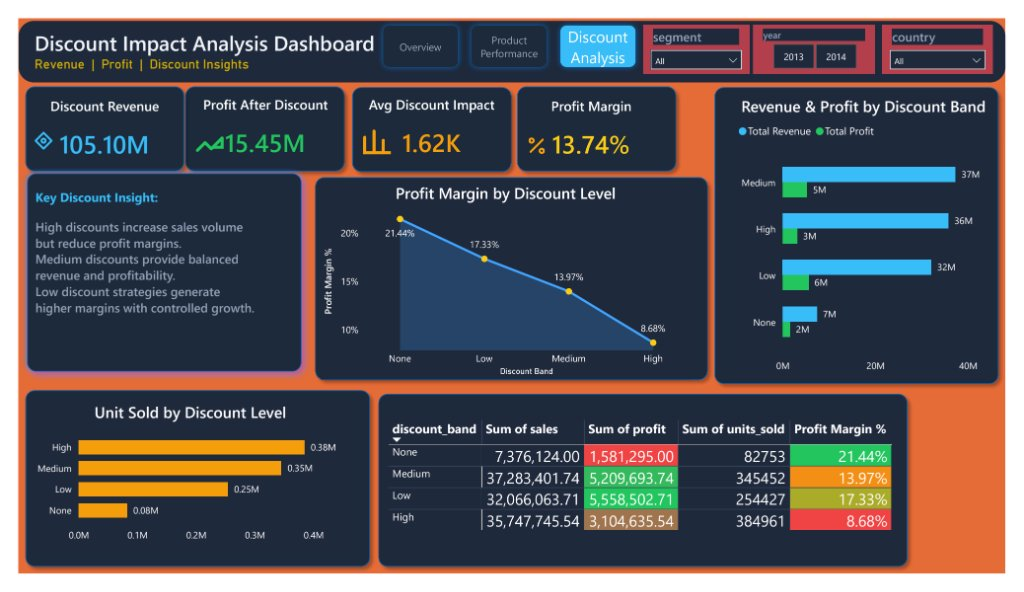

The dashboard page shown, as its layout file describes it:
{"tool":"powerbi","page":{"name":"Discount Analysis","canvas":[1280,720],"ordinal":2},"visuals":[{"type":"shape","box":[458.2,477.6,703.7,242.2],"z":1000},{"type":"shape","box":[894.4,80.2,385.6,402.5],"z":2000},{"type":"shape","box":[376.3,197.4,526.5,280.1],"z":3000},{"type":"shape","box":[0,473.4,464.9,246.4],"z":4000},{"type":"shape","box":[208.4,79.3,224,128],"z":5000},{"type":"shape","box":[423.6,80.2,224,128],"z":6000},{"type":"shape","box":[637.9,79.3,224,128],"z":7000},{"type":"shape","box":[0,79.3,224,128],"z":8000},{"type":"shape","box":[0,3.4,1280,79.9],"z":9000},{"type":"textbox","box":[16,7.6,459,72.6],"z":10000},{"type":"slicer","fields":{"Values":["financial_dashboard_view.year"]},"box":[953.5,7.6,157.8,64.1],"z":11000},{"type":"slicer","fields":{"Values":["financial_dashboard_view.segment"]},"box":[810,7.6,137.5,64.1],"z":12000},{"type":"slicer","fields":{"Values":["financial_dashboard_view.country"]},"box":[1119.7,7.6,144.3,64.1],"z":13000},{"type":"cardVisual","title":"Profit Margin","fields":{"Data":["financial_dashboard_view.Profit Margin %"]},"box":[647.2,101.3,192,96],"z":14000},{"type":"cardVisual","title":"Discount Revenue","fields":{"Data":["financial_dashboard_view.Total Discount Revenue"]},"box":[16,101.3,192,96],"z":15000},{"type":"cardVisual","title":"Profit After Discount","fields":{"Data":["financial_dashboard_view.Profit After Discount"]},"box":[224.4,98.7,192.1,96.1],"z":16000},{"type":"cardVisual","title":"Avg Discount Impact","fields":{"Data":["financial_dashboard_view.Avg Discount Impact"]},"box":[439.6,98.7,192,96],"z":17000},{"type":"clusteredBarChart","title":"Revenue & Profit by Discount Band","fields":{"Category":["financial_dashboard_view.discount_band"],"Y":["financial_dashboard_view.Total Revenue","financial_dashboard_view.Total Profit"]},"box":[928.1,98.7,335.8,370.4],"z":18000},{"type":"lineChart","title":"Profit Margin by Discount Level","fields":{"Category":["financial_dashboard_view.discount_band"],"Y":["financial_dashboard_view.Profit Margin %"]},"box":[391.5,211.8,480,256],"z":19000},{"type":"clusteredBarChart","title":"Unit Sold by Discount Level","fields":{"Category":["financial_dashboard_view.discount_band"],"Y":["Sum(financial_dashboard_view.units_sold)"]},"box":[15.2,496.1,416,192],"z":20000},{"type":"pivotTable","fields":{"Rows":["financial_dashboard_view.discount_band"],"Values":["Sum(financial_dashboard_view.sales)","Sum(financial_dashboard_view.profit)","Sum(financial_dashboard_view.units_sold)","financial_dashboard_view.Profit Margin %"]},"box":[475,515.5,672.5,189.8],"z":21000},{"type":"pageNavigator","box":[464.9,0.8,345.1,70.9],"z":22000},{"type":"shape","box":[0,189.8,378,279.3],"z":23000},{"type":"textbox","box":[16.9,216,338.4,218.5],"z":24000},{"type":"image","box":[17.1,117.6,31.4,79.9],"z":25000},{"type":"image","box":[223.6,138.4,48.5,48.5],"z":26000},{"type":"image","box":[441.3,125.7,47.6,63.7],"z":27000},{"type":"image","box":[656.5,133.3,32,64],"z":28000}]}

Visuals, with their boxes in screenshot pixels (x1, y1, x2, y2), scaled from the page's 1280x720 canvas onto the 1024x592 screenshot:
shape: 367, 393, 930, 591
shape: 716, 66, 1023, 397
shape: 301, 162, 722, 393
shape: 0, 389, 372, 591
shape: 167, 65, 346, 170
shape: 339, 66, 518, 171
shape: 510, 65, 690, 170
shape: 0, 65, 179, 170
shape: 0, 3, 1023, 68
textbox: 13, 6, 380, 66
slicer - financial_dashboard_view.year: 763, 6, 889, 59
slicer - financial_dashboard_view.segment: 648, 6, 758, 59
slicer - financial_dashboard_view.country: 896, 6, 1011, 59
"Profit Margin" cardVisual: 518, 83, 671, 162
"Discount Revenue" cardVisual: 13, 83, 166, 162
"Profit After Discount" cardVisual: 180, 81, 333, 160
"Avg Discount Impact" cardVisual: 352, 81, 505, 160
"Revenue & Profit by Discount Band" clusteredBarChart: 742, 81, 1011, 386
"Profit Margin by Discount Level" lineChart: 313, 174, 697, 385
"Unit Sold by Discount Level" clusteredBarChart: 12, 408, 345, 566
pivotTable - financial_dashboard_view.discount_band x Sum(financial_dashboard_view.sales): 380, 424, 918, 580
pageNavigator: 372, 1, 648, 59
shape: 0, 156, 302, 386
textbox: 14, 178, 284, 357
image: 14, 97, 39, 162
image: 179, 114, 218, 154
image: 353, 103, 391, 156
image: 525, 110, 551, 162
